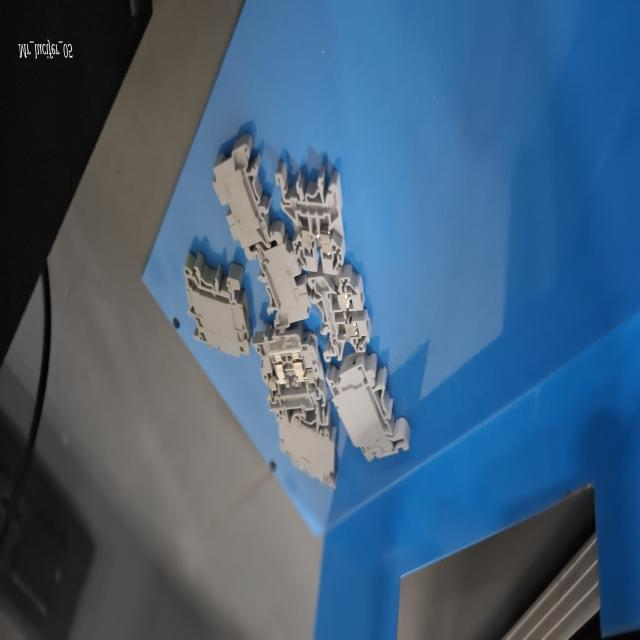Inverted: (208, 132, 274, 268), (255, 233, 308, 342)
Pass: (272, 155, 350, 289), (314, 258, 374, 372)
